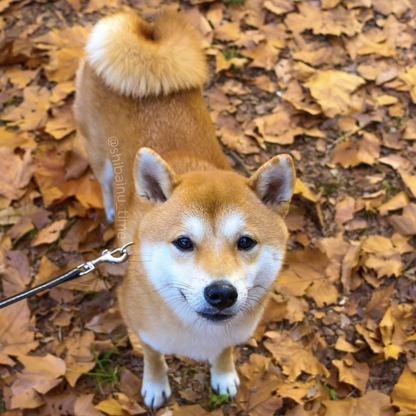shiba: (70, 3, 315, 412)
